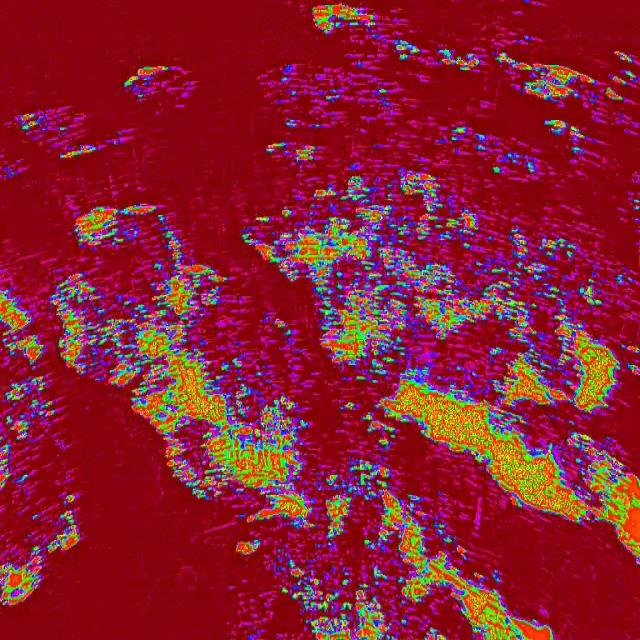fire: (262, 51, 640, 370), (234, 462, 448, 640), (382, 372, 590, 532), (52, 260, 250, 382), (132, 383, 312, 502), (0, 283, 46, 616), (75, 198, 191, 260), (590, 430, 640, 560), (450, 540, 502, 640), (115, 58, 199, 114), (14, 99, 81, 165), (296, 4, 386, 41), (46, 484, 84, 565), (503, 609, 554, 640)
